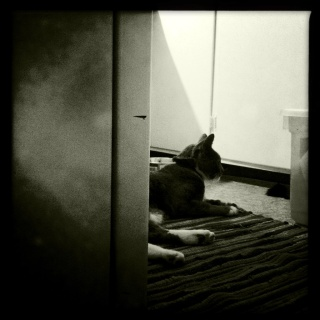Cat: (146, 127, 241, 217)
